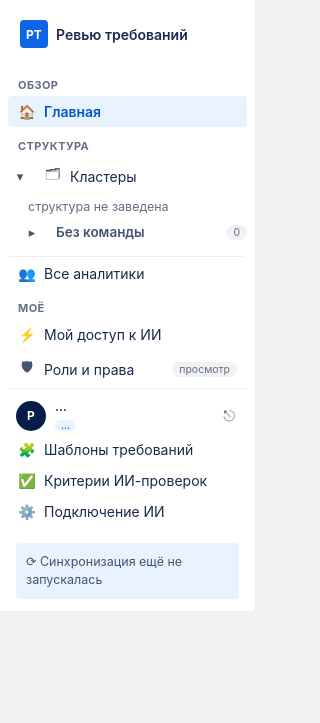
Test case: Sidebar › hides the rest-link when total ≤ 5
What coordinates should you click on to do the following:
click the button named "Аналитики без команды"
I would click on:
 (32, 232)
Its box is [20,218,44,246].
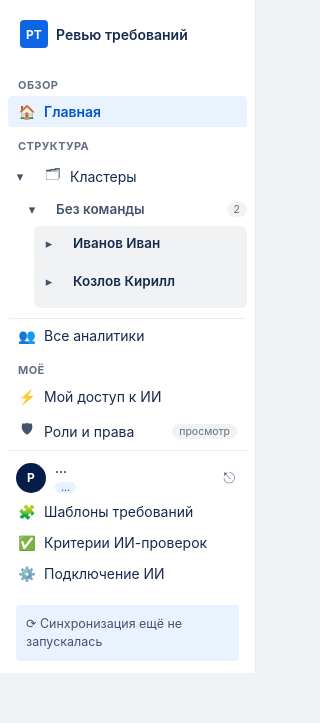
What coordinates should you click on to do the following:
click the button named "Документы аналитика Козлов Кирилл"
I would click on:
 (49, 281)
Its box is [37,267,61,295].
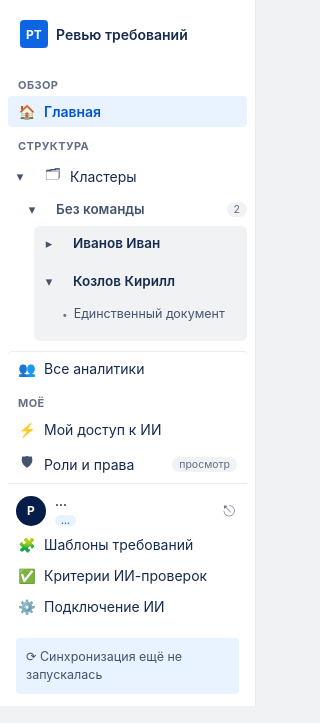
Expected: the link "• Единственный документ" is shown, [54,301,241,325]
